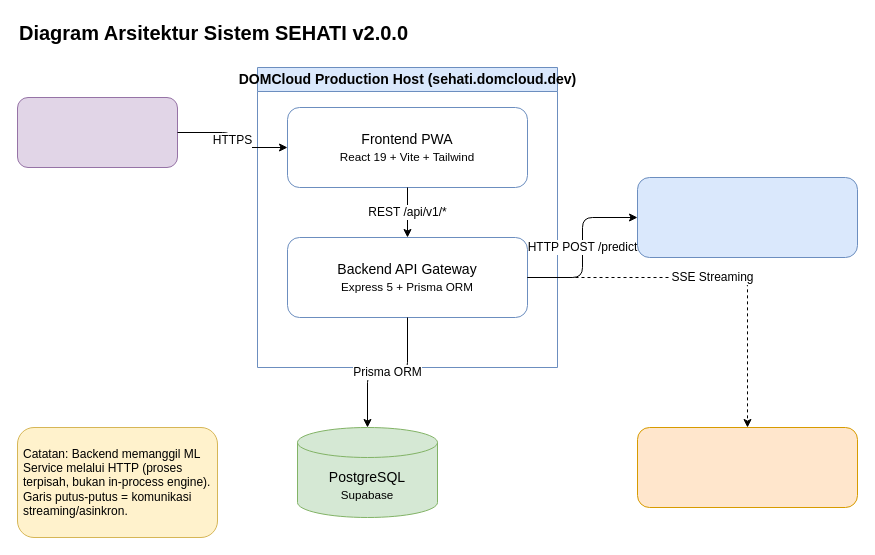
The diagram is 875 pixels wide and 555 high, and some of its shapes have lost their labels. Here are the shapes that lost their labels. From the top down, the centre of each, then its label:
(x=97, y=132): Pengguna Orang Tua / Kader / Nakes
(x=747, y=217): ML Service Python FastAPI (Uvicorn :8000)
(x=747, y=467): Google Gemini API Model via env GEMINI_MODEL, SSE
